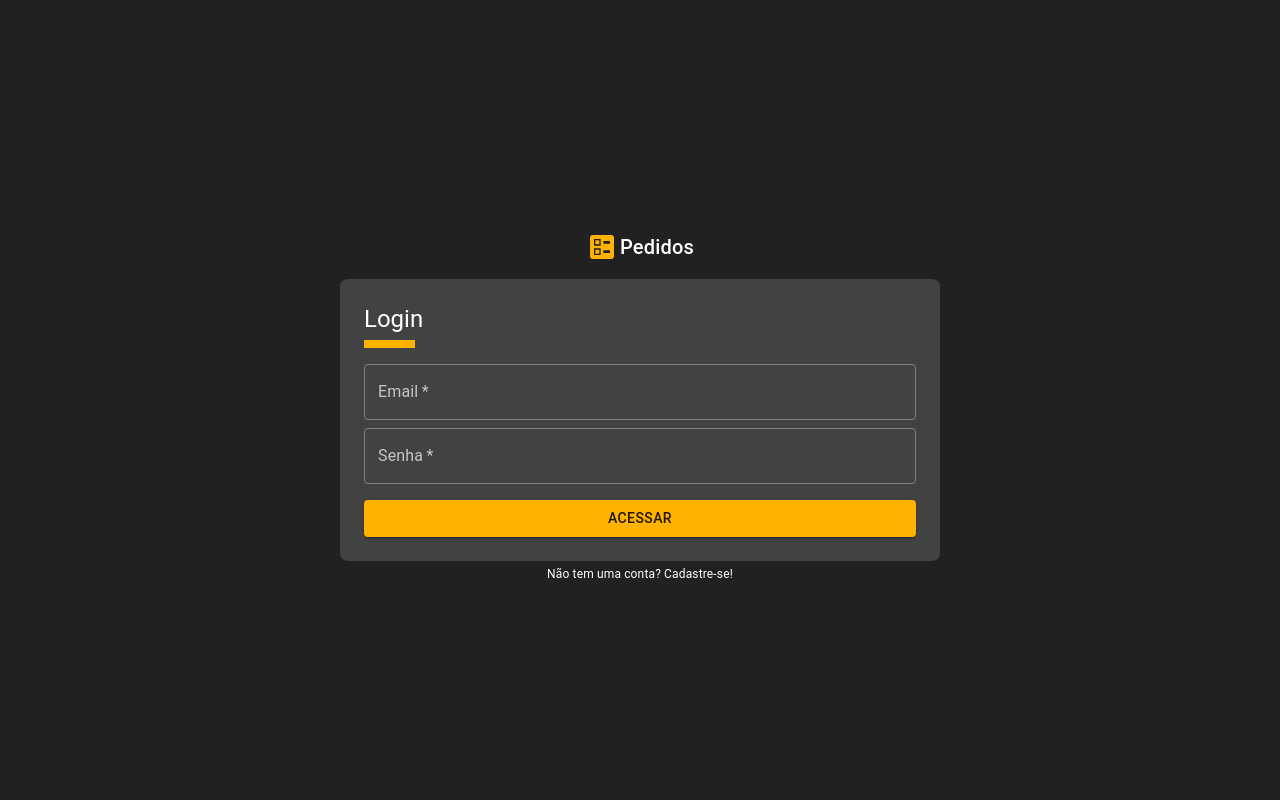
it: <Login /> › User not found
The image size is (1280, 800).
Type "not-exists@not-exists.com" into the field labelled "Email *" at (640, 392), box [364,364,916,420]
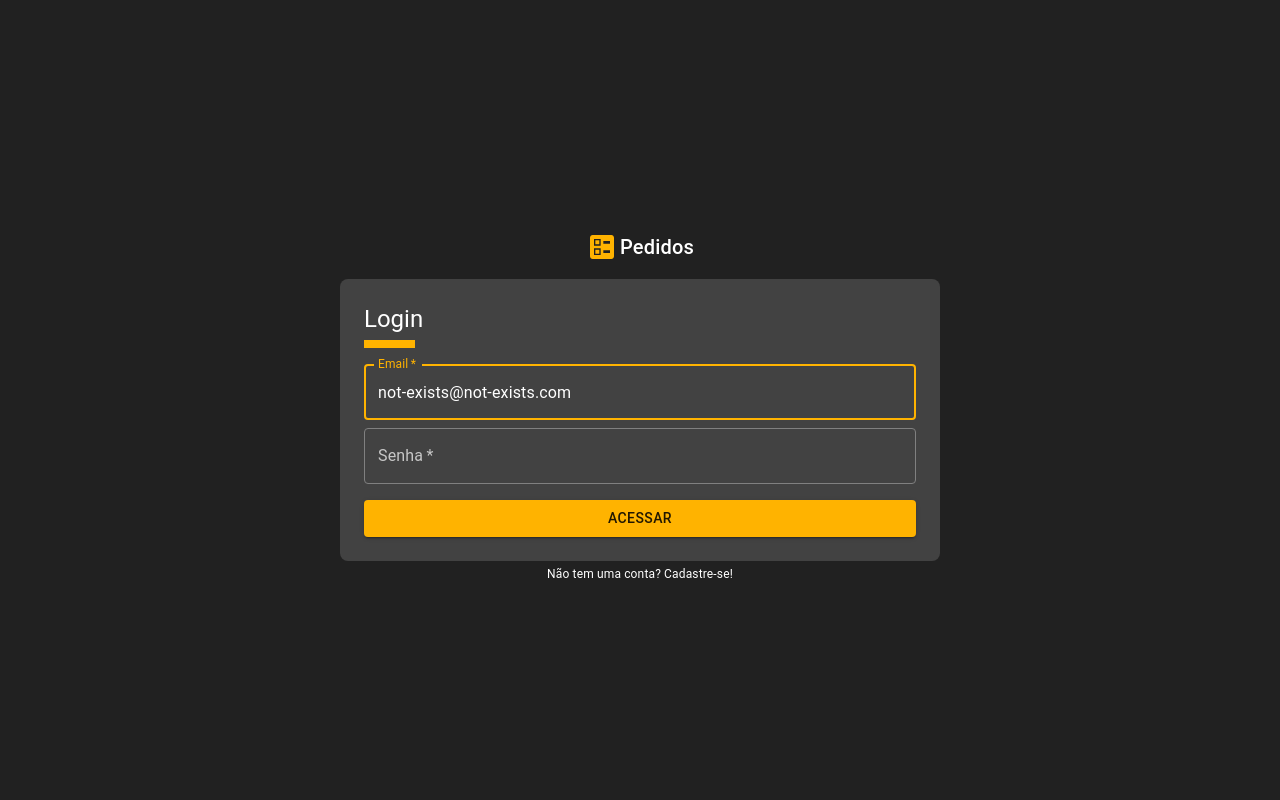
Type "not-exists" into the password field labelled "Senha *" at (640, 456), box [364,428,916,484]
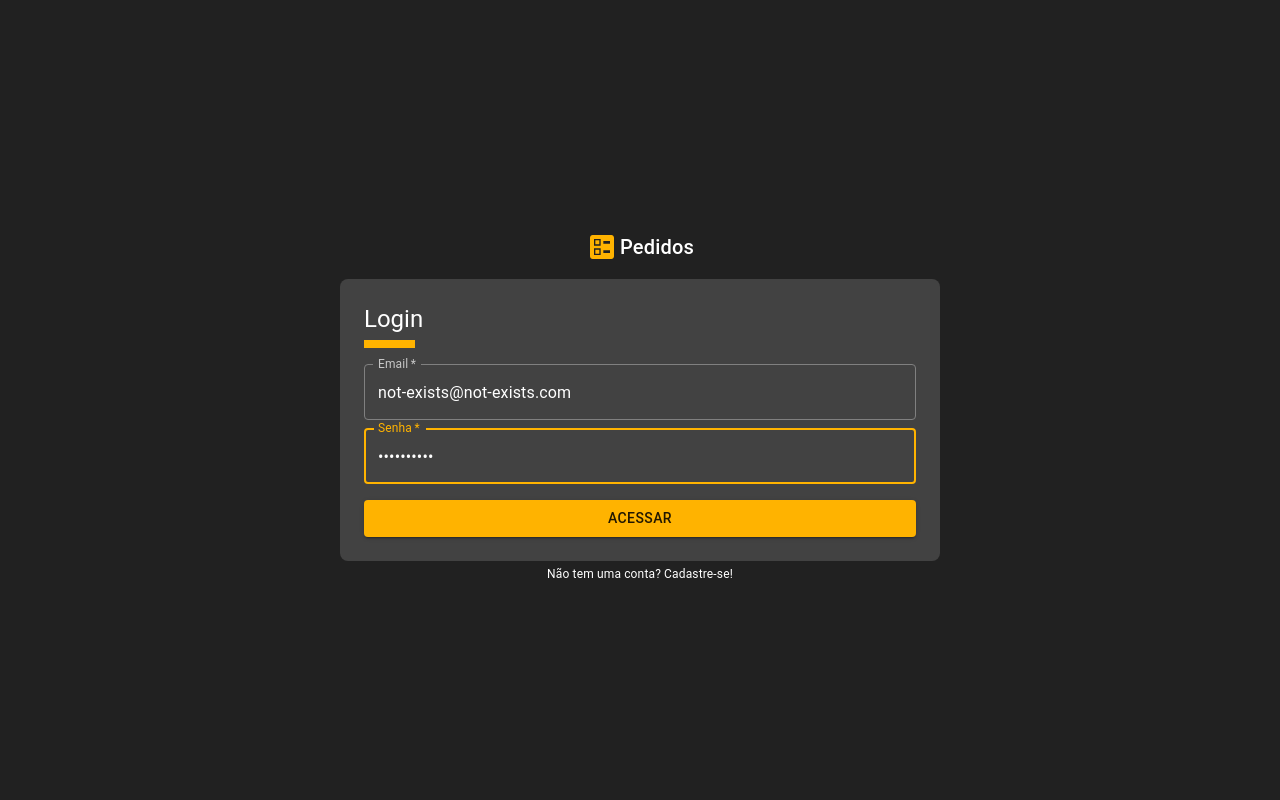
Click the button at (640, 519), box [364,500,916,537]
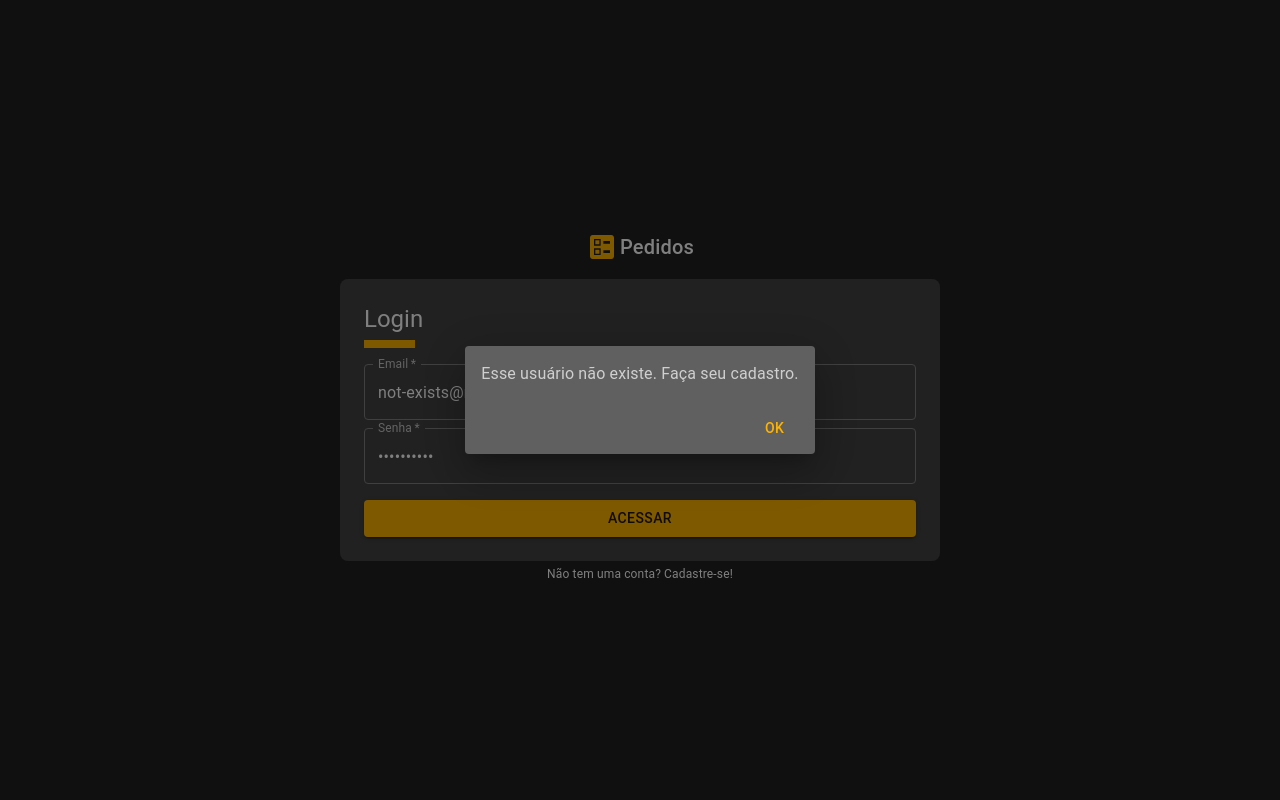
Expected: the text "Esse usuário não existe. Faça seu cadastro." is shown, [481,364,799,383]
